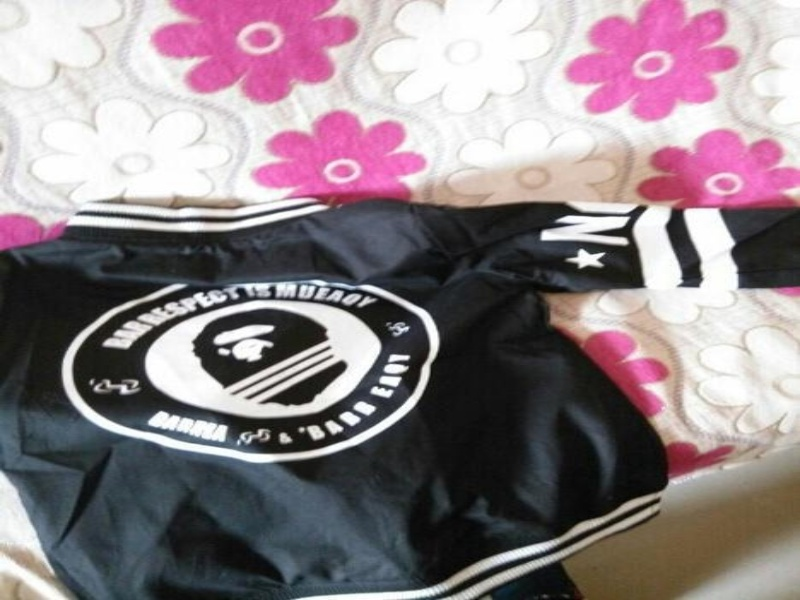long_sleeved_shirt: (0, 183, 797, 599)
